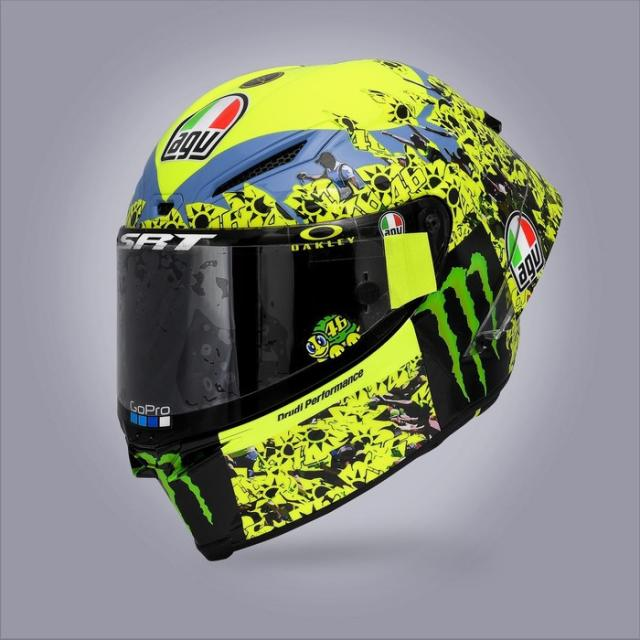Helm: (102, 52, 564, 587)
